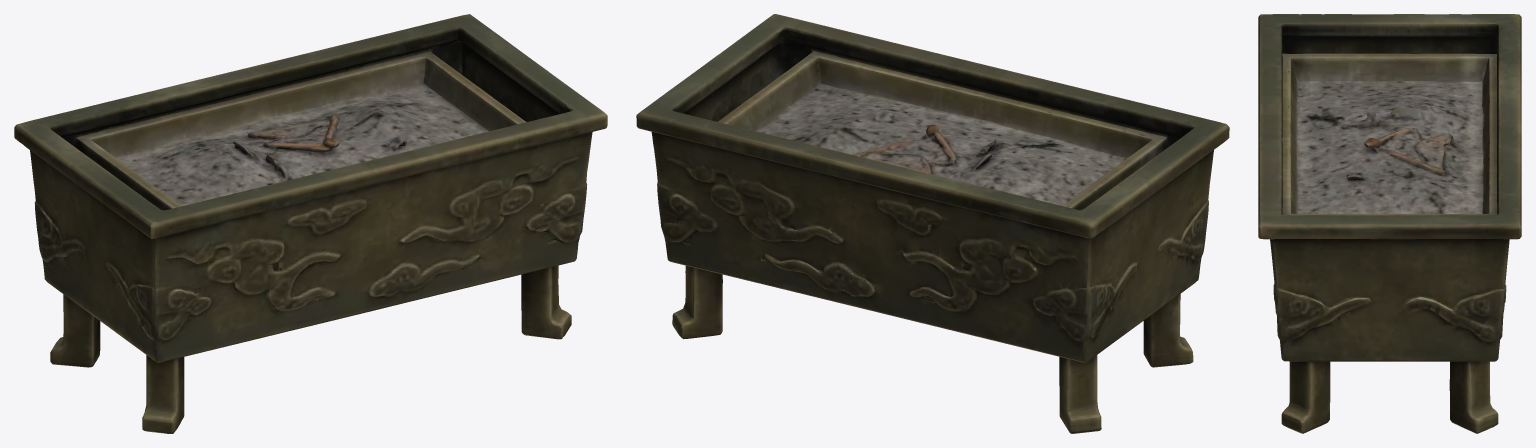
The model's file is PROP-003.glb.
3 views of the same model, side by side, from view 1: azimuth 30°, elevation 25°; view 2: azimuth 150°, elevation 25°; view 3: azimuth 270°, elevation 25° (orthographic). The views are drawn at different scales.
Visible parts, largest first — view 1: world; view 2: world; view 3: world.
Boxes of the visible parts, box(x1,y1,x2,y2) form: world: box(14, 14, 607, 433); world: box(636, 14, 1229, 433); world: box(1258, 14, 1521, 433).
Size of the model in its own units: 0.45 by 0.2142 by 0.236.
1 material, 1 textured.
